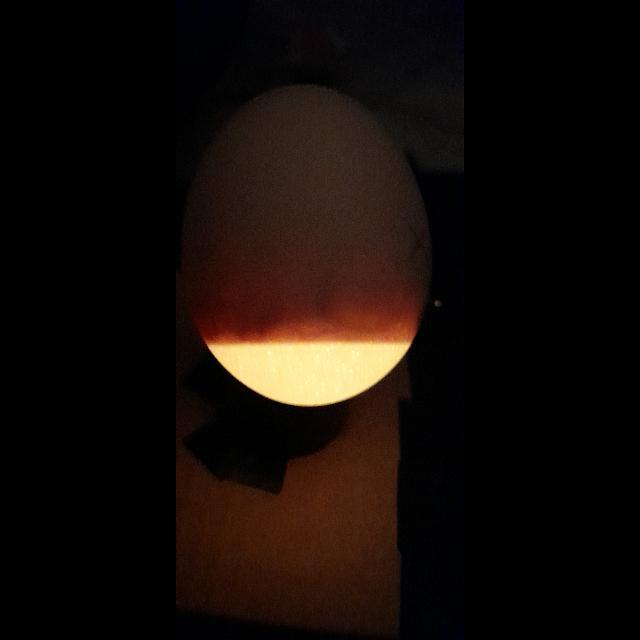Fertile: (189, 79, 427, 411)
